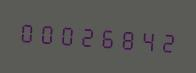eight: (117, 21, 136, 55)
four: (137, 22, 156, 57)
six: (97, 19, 116, 54)
two: (77, 18, 96, 52), (157, 24, 176, 58)
zero: (37, 15, 56, 50), (17, 14, 36, 48), (57, 17, 76, 51)
